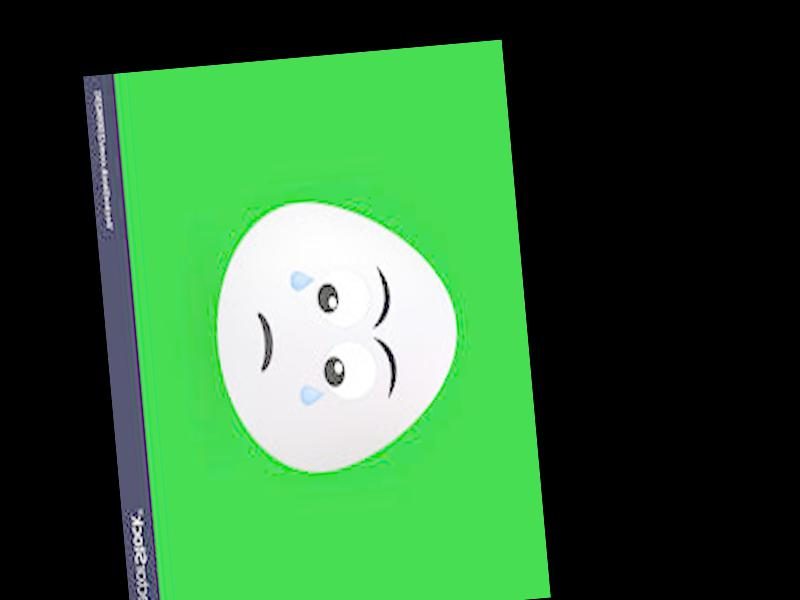Eggs: (207, 192, 466, 482)
